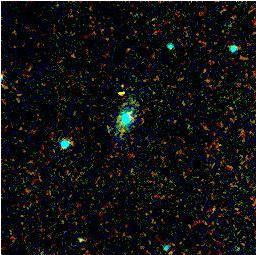star: (109, 77, 139, 107)
